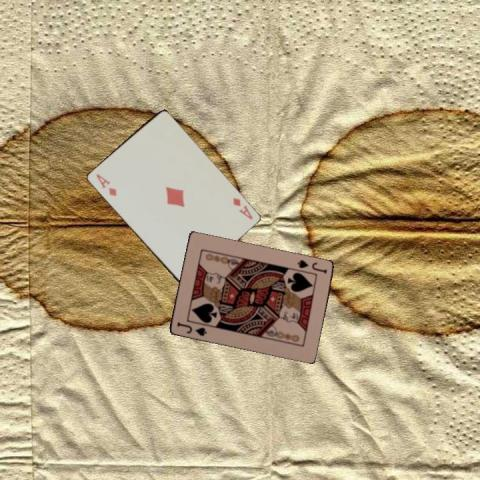Ad: (93, 171, 118, 197), (229, 195, 254, 221)
Js: (173, 319, 208, 337), (294, 257, 328, 275)
